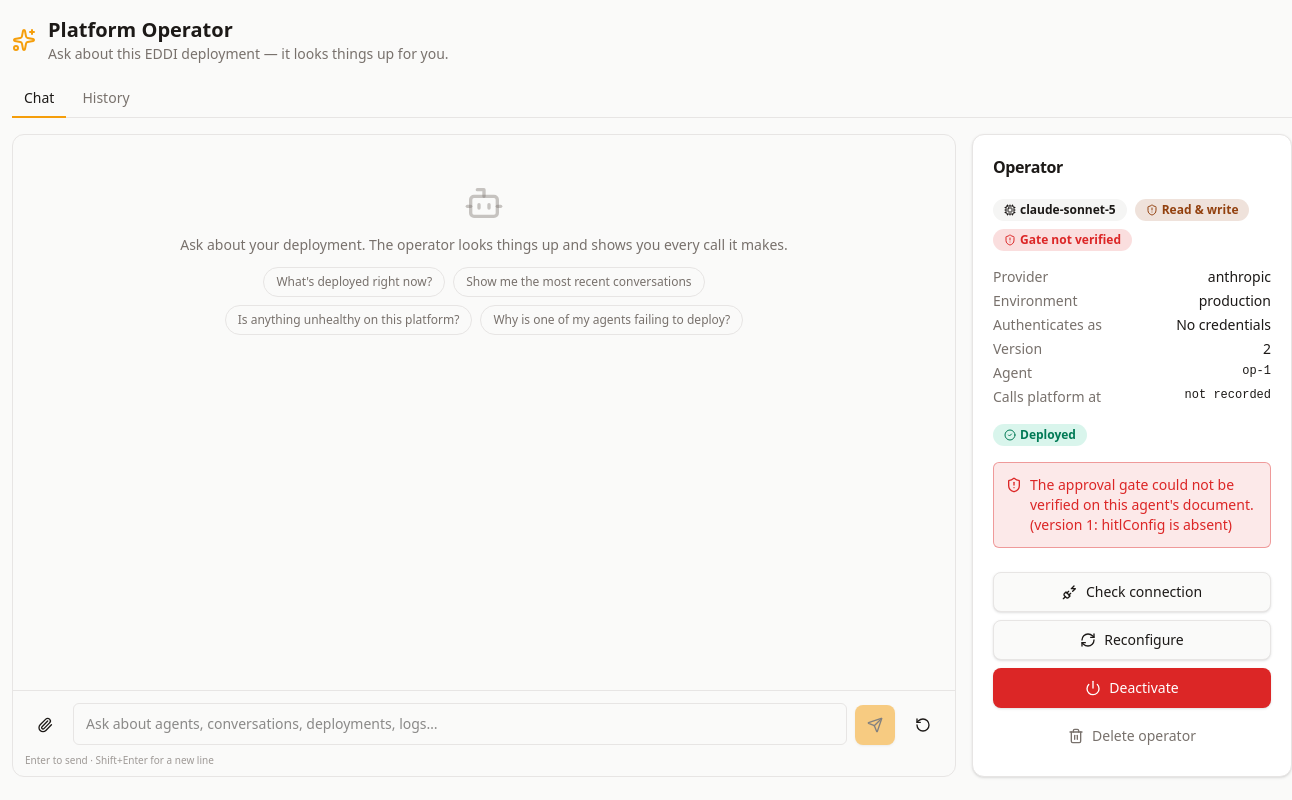
Test: OperatorPage — conversation history › opens a finished conversation read-only
Click the tab with test id "operator-tab-history": (106, 99) [70,80,142,118]
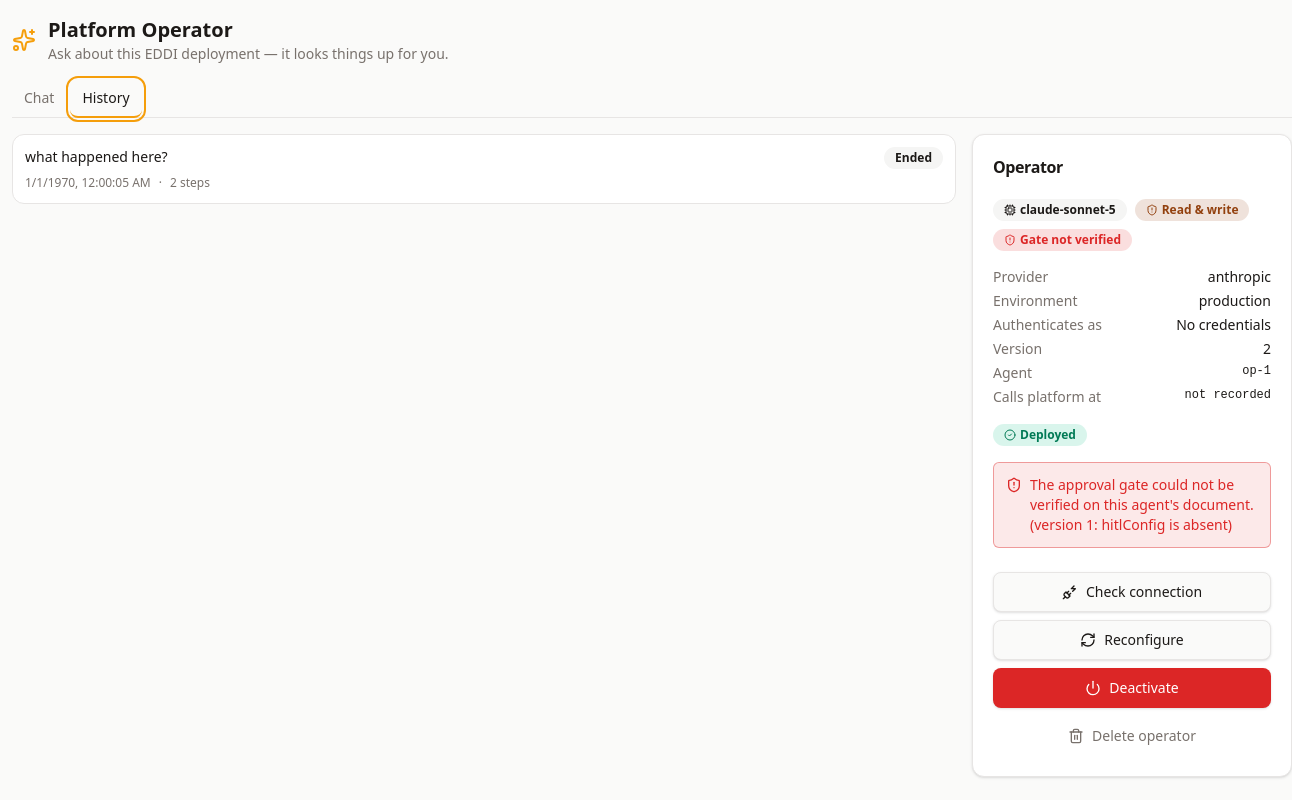
Click the button with test id "operator-conversation-conv-dead": (96, 156) [12,134,956,204]
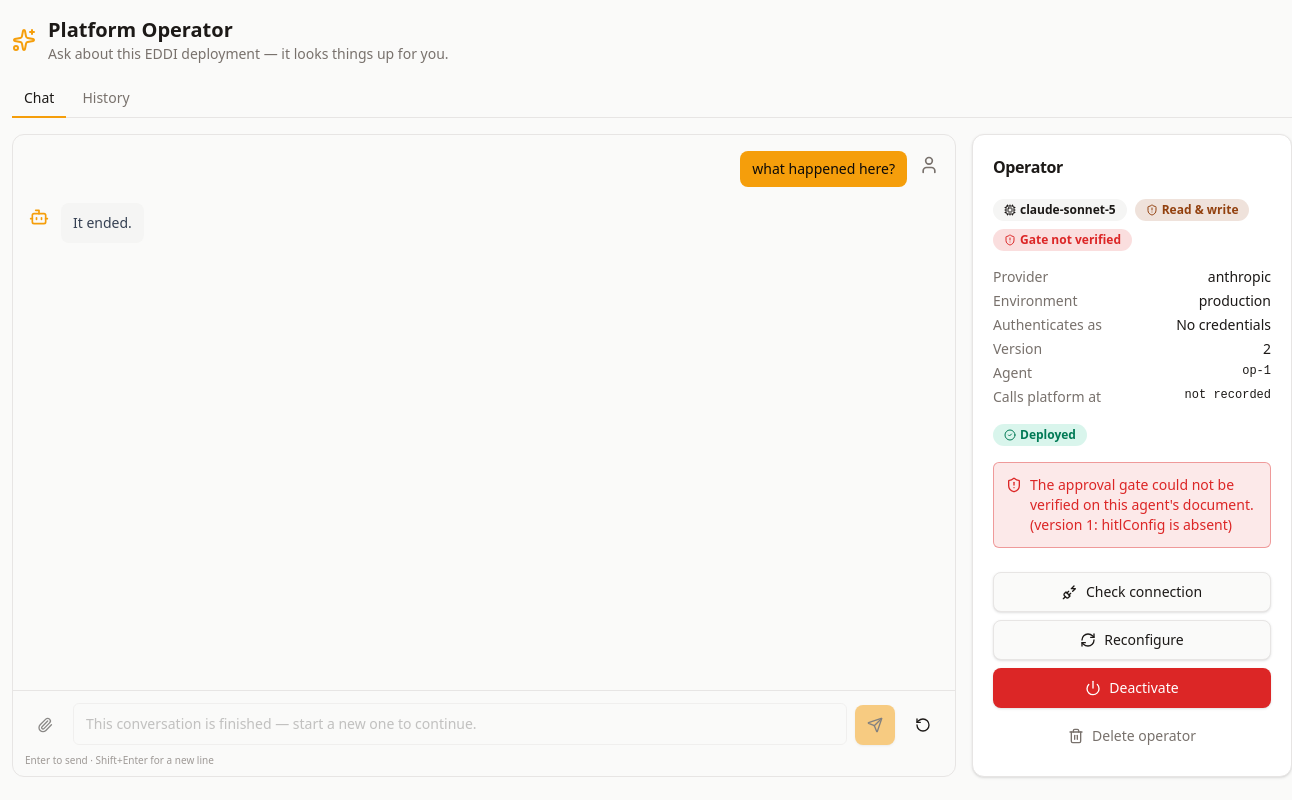
Check: the text "It ended." is shown, box [73,211,132,235]
Check: the text box with test id "operator-input" is disabled, box [73,703,847,745]
